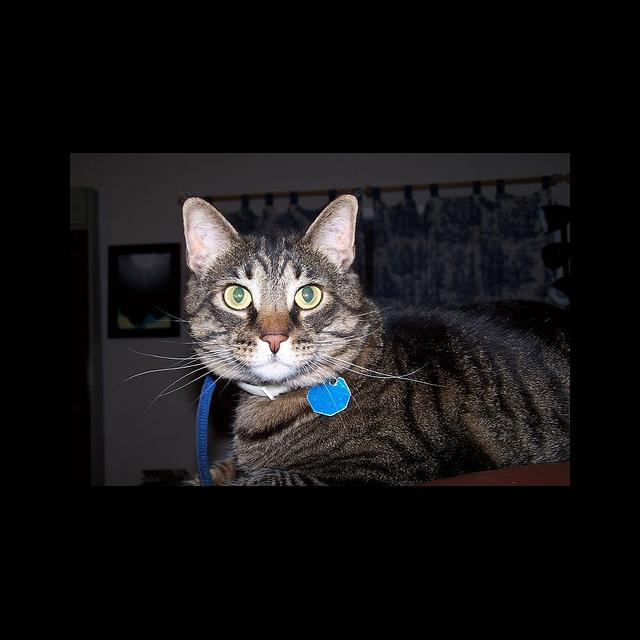animals: (192, 196, 349, 350)
